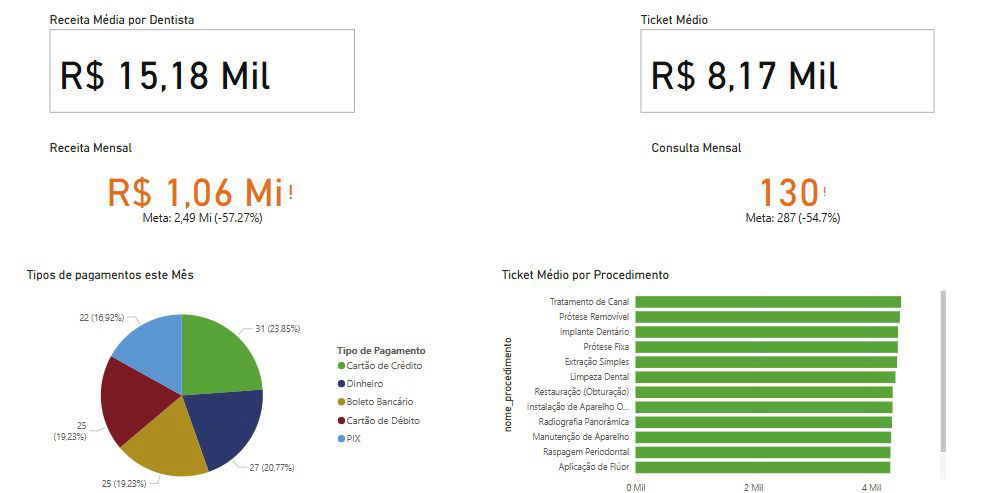

The page's visual inventory and layout, read from the dashboard file:
{"tool":"powerbi","page":{"name":"Página 1","canvas":[1280,720],"ordinal":0},"visuals":[{"type":"kpi","title":"Consulta Mensal","fields":{"Indicator":["fato.Total_Consultas"],"Goal":["fato.Total_Consultas_Mes_Anterior"],"TrendLine":["dim_tempo.mes"]},"box":[864,208,400,144],"z":0},{"type":"kpi","title":"Receita Mensal","fields":{"Indicator":["fato.Receita_MTD"],"TrendLine":["dim_tempo.mes"],"Goal":["fato.Receita_MesAnterior"]},"box":[32,32,432,144],"z":1000},{"type":"cardVisual","title":"Ticket Médio","fields":{"Data":["fato.TicketMedio_MTD"]},"box":[848,32,416,144],"z":2000},{"type":"cardVisual","title":"Receita Média por Dentista","fields":{"Data":["fato.ReceitaPorDentista_MTD"]},"box":[32,208,432,144],"z":3000},{"type":"barChart","title":"Ticket Médio por Procedimento","fields":{"Y":["fato.TicketMedioPorProcedimento"],"Category":["dim_procedimento.nome_procedimento"]},"box":[656,384,624,336],"z":4000},{"type":"pieChart","title":"Tipos de pagamentos este Mês","fields":{"Y":["fato.TotalPagamentosEsteMes"],"Category":["dim_tipo_pagamento.descricao_tipo_pagamento"]},"box":[0,384,576,336],"z":5000}]}

Visuals, with their boxes on the page's 1280x720 design canvas (x1, y1, x2, y2). These are canvas units, not pixel positions in the 986x493 screenshot, which may show the page scaled, cropped or inside an application window:
"Consulta Mensal" kpi: <box>864,208,1264,352</box>
"Receita Mensal" kpi: <box>32,32,464,176</box>
"Ticket Médio" cardVisual: <box>848,32,1264,176</box>
"Receita Média por Dentista" cardVisual: <box>32,208,464,352</box>
"Ticket Médio por Procedimento" barChart: <box>656,384,1280,720</box>
"Tipos de pagamentos este Mês" pieChart: <box>0,384,576,720</box>
